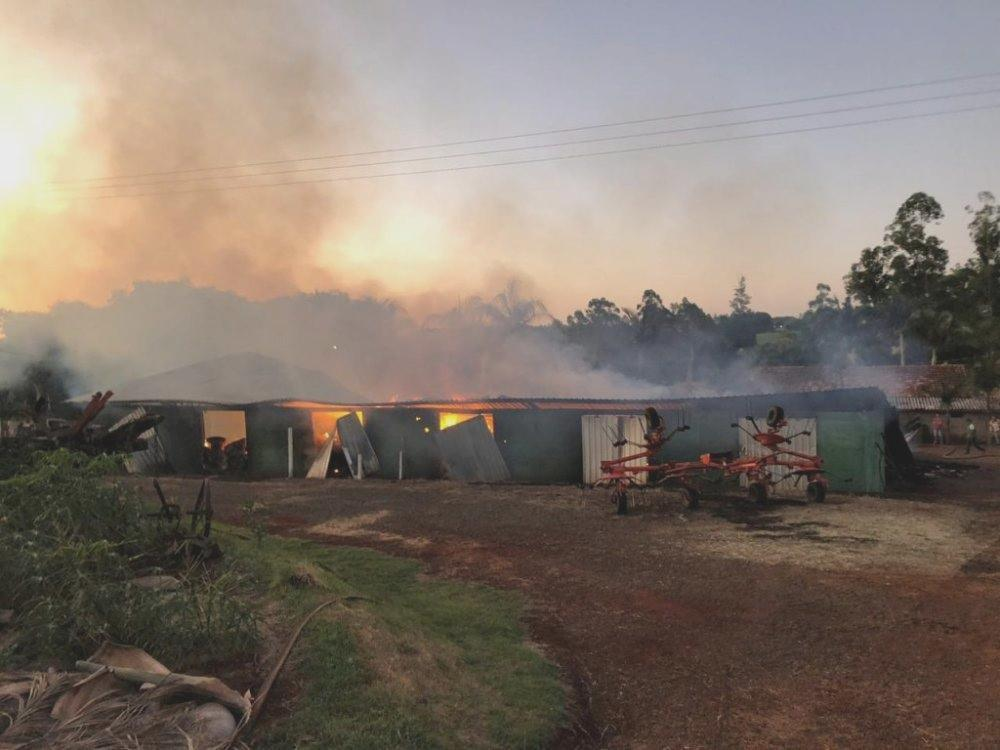Fire: (296, 401, 351, 422), (439, 410, 468, 430)
